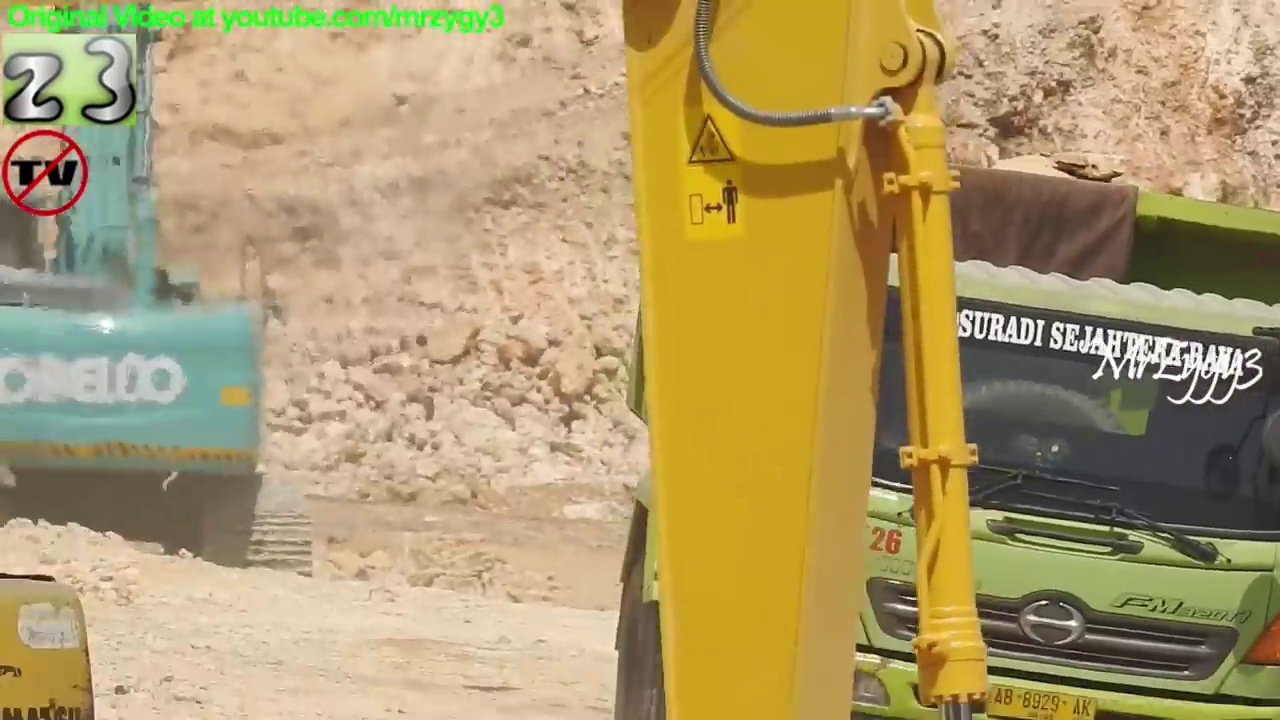excavator: (619, 1, 997, 720), (1, 1, 327, 600)
truck: (609, 130, 1277, 720)
